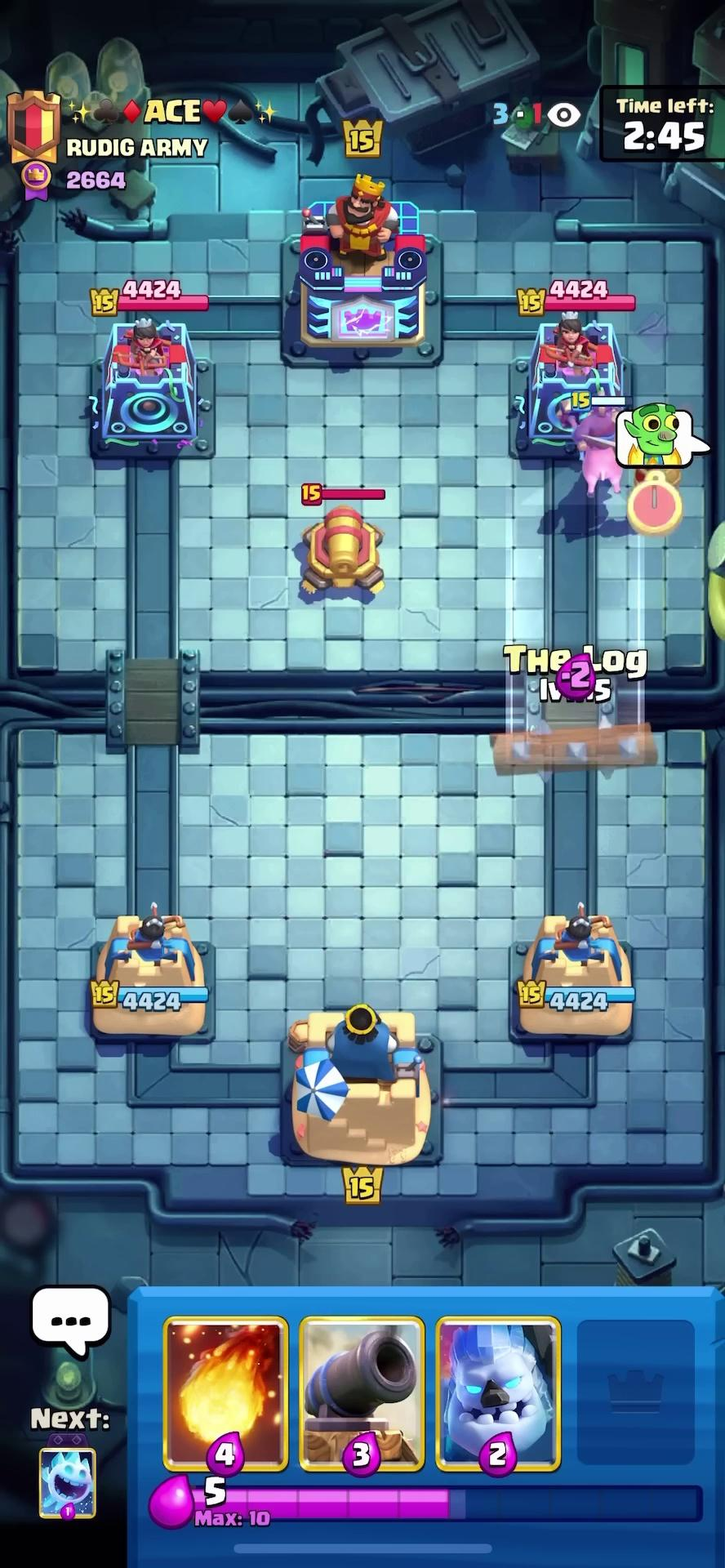hog_rider: (557, 376, 639, 494)
